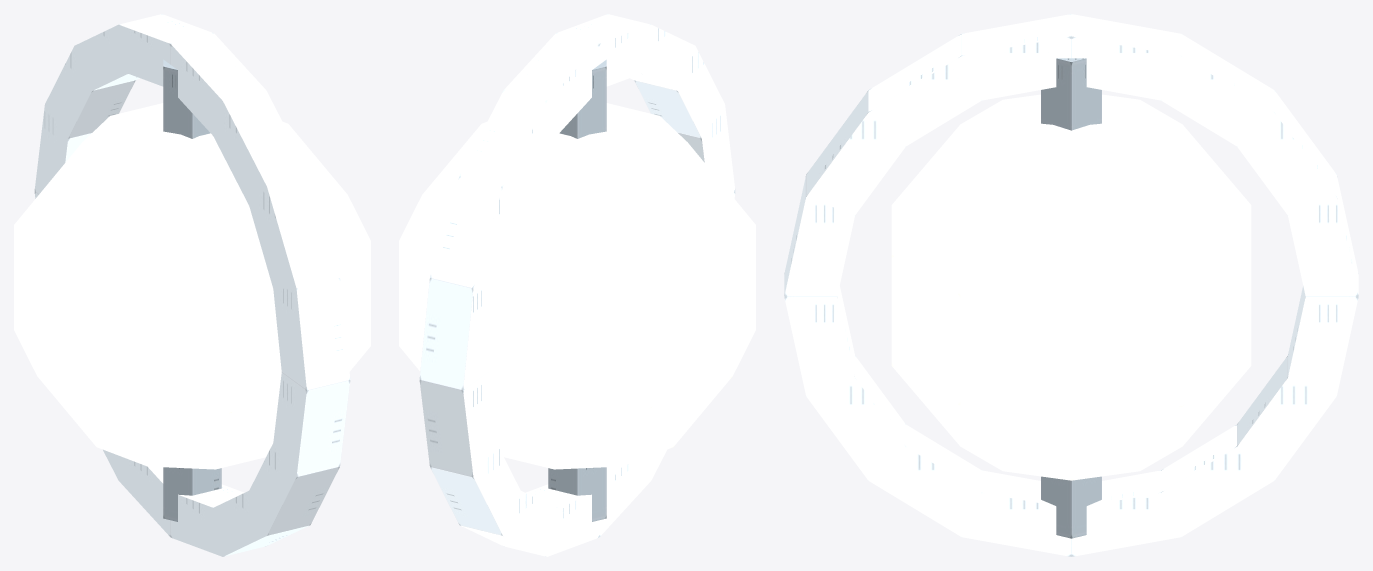
Rendered from pulse.glb.
3 views of the same model, side by side, from view 1: azimuth 30°, elevation 25°; view 2: azimuth 150°, elevation 25°; view 3: azimuth 270°, elevation 25° (orthographic). The views are drawn at different scales.
Visible parts, largest first — view 1: pulse; view 2: pulse; view 3: pulse.
Boxes of the visible parts, x1,y1,x2,y2 form: pulse: [14, 14, 370, 556]; pulse: [399, 14, 755, 556]; pulse: [784, 14, 1358, 556].
Size of the model in its own units: 0.0856 by 0.13 by 0.13.
Materials: 3 (3 with a texture image).
